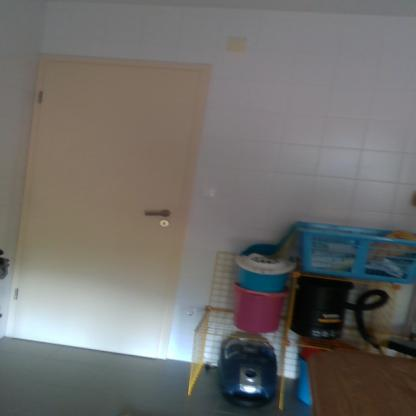door: (32, 61, 190, 358)
hinged: (35, 88, 46, 104), (11, 285, 19, 303)
lever: (142, 208, 172, 219)
